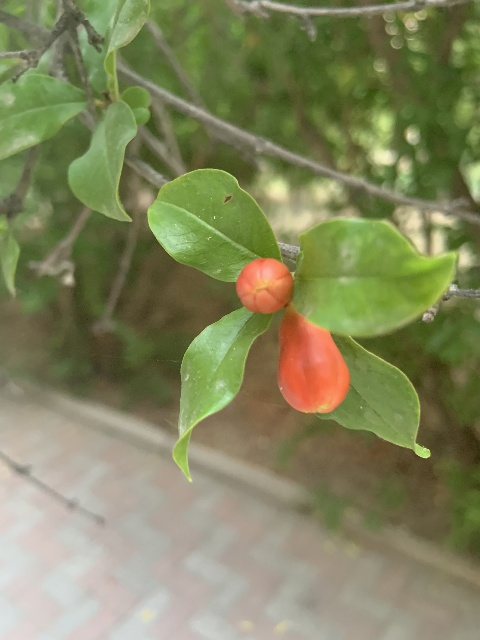bud: (277, 301, 349, 415), (236, 257, 293, 314)
